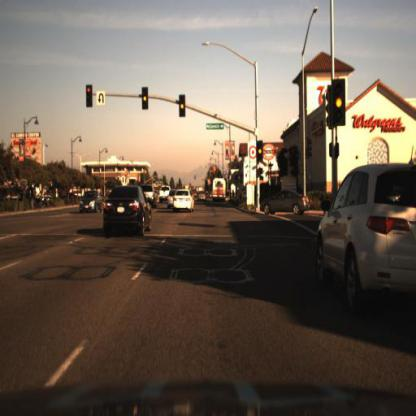car: (316, 162, 416, 317), (102, 182, 154, 242), (258, 189, 311, 222), (75, 187, 104, 218), (172, 190, 197, 213), (158, 182, 170, 205), (194, 189, 208, 207)
trafficLight-RedLeft: (85, 83, 94, 115)
trafficLight-Yellow: (331, 77, 346, 126), (334, 79, 346, 129), (176, 94, 188, 119), (141, 88, 150, 115), (257, 142, 265, 165)
truck: (211, 174, 229, 207), (211, 178, 228, 204)
